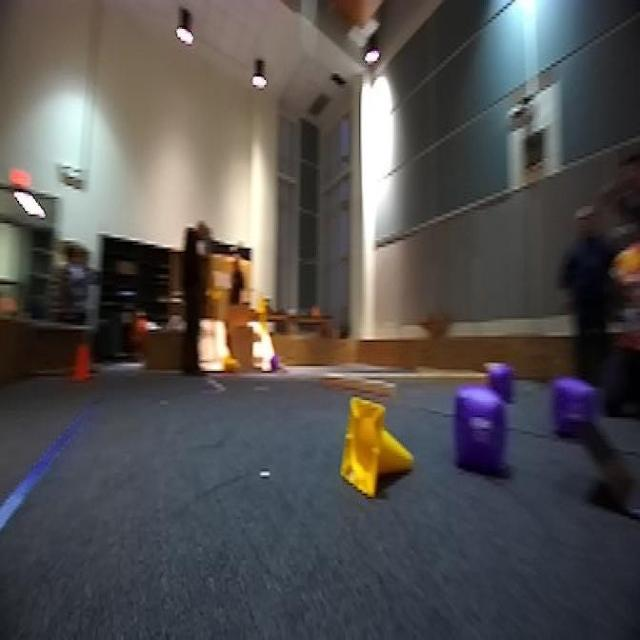frc_cone: (341, 395, 416, 499), (221, 352, 239, 377)
frc_cube: (452, 386, 506, 476), (550, 372, 594, 442), (485, 356, 514, 396), (268, 356, 282, 373)
